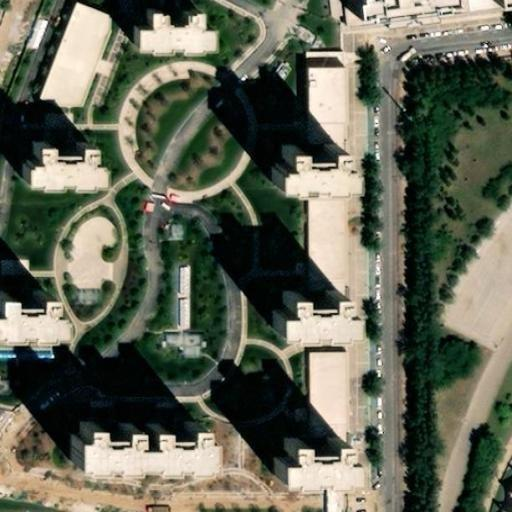building: (41, 11, 112, 119), (73, 427, 211, 473), (344, 2, 439, 44), (299, 56, 343, 146), (274, 277, 354, 324), (278, 427, 355, 475), (149, 34, 225, 81), (27, 174, 107, 218), (263, 164, 339, 206), (0, 298, 65, 336), (434, 0, 487, 33), (21, 11, 47, 49), (173, 260, 190, 292), (164, 219, 182, 238)
